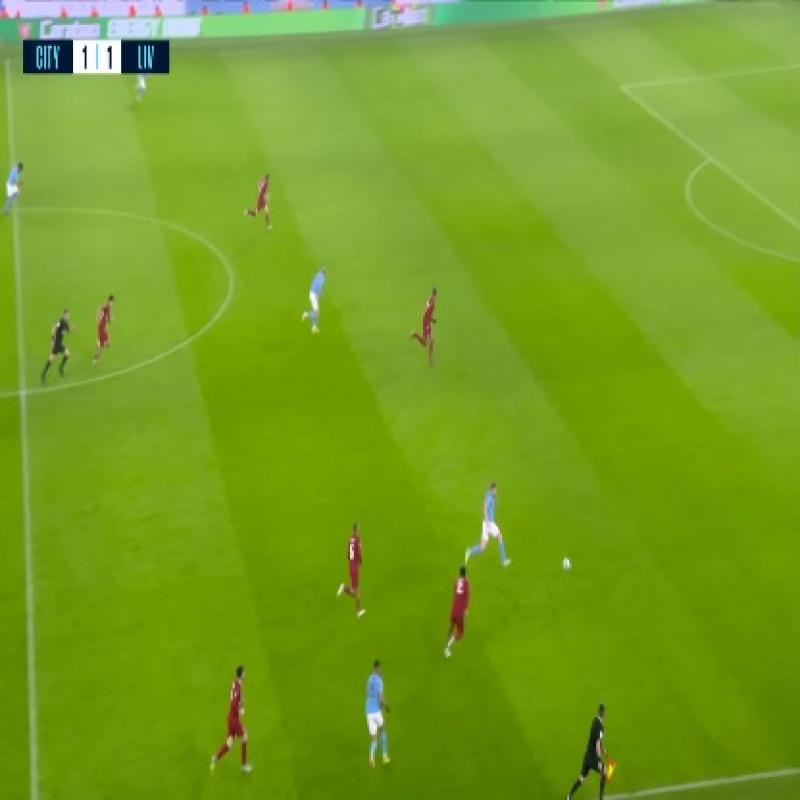10: (698, 142, 721, 171)
13: (0, 45, 16, 77)
14: (2, 194, 23, 219)
15: (5, 369, 36, 412)
9: (608, 71, 632, 102)
c: (215, 261, 248, 294)
